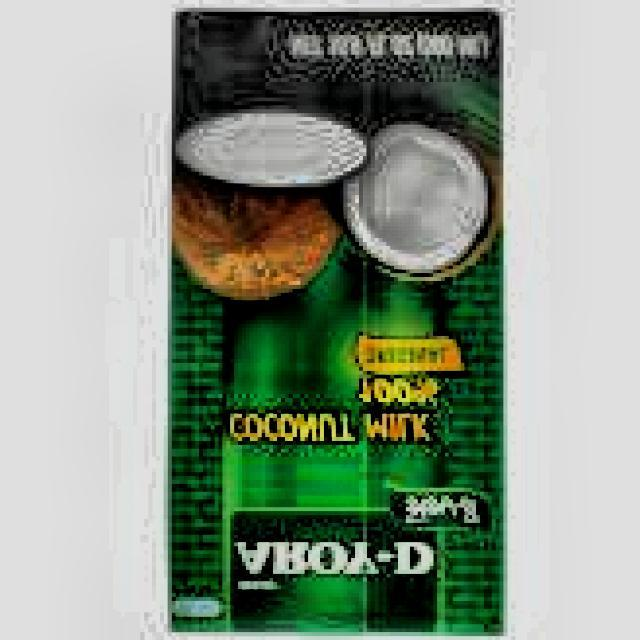cardboard: (163, 12, 503, 640)
